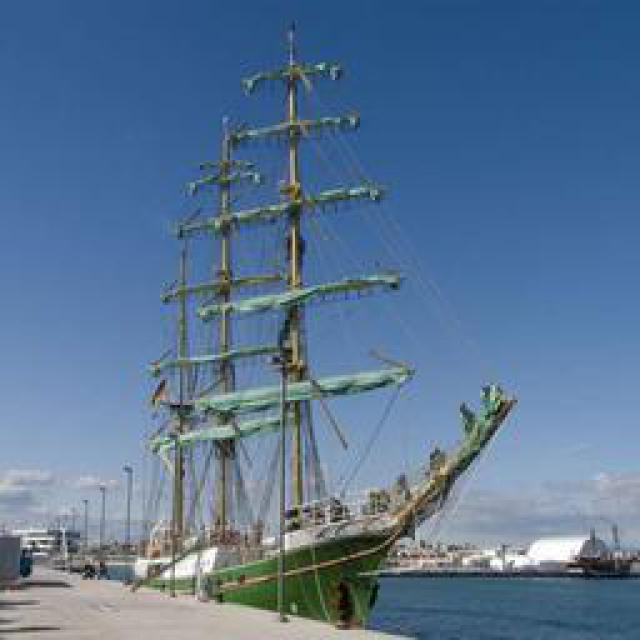Ship: (137, 54, 525, 621)
